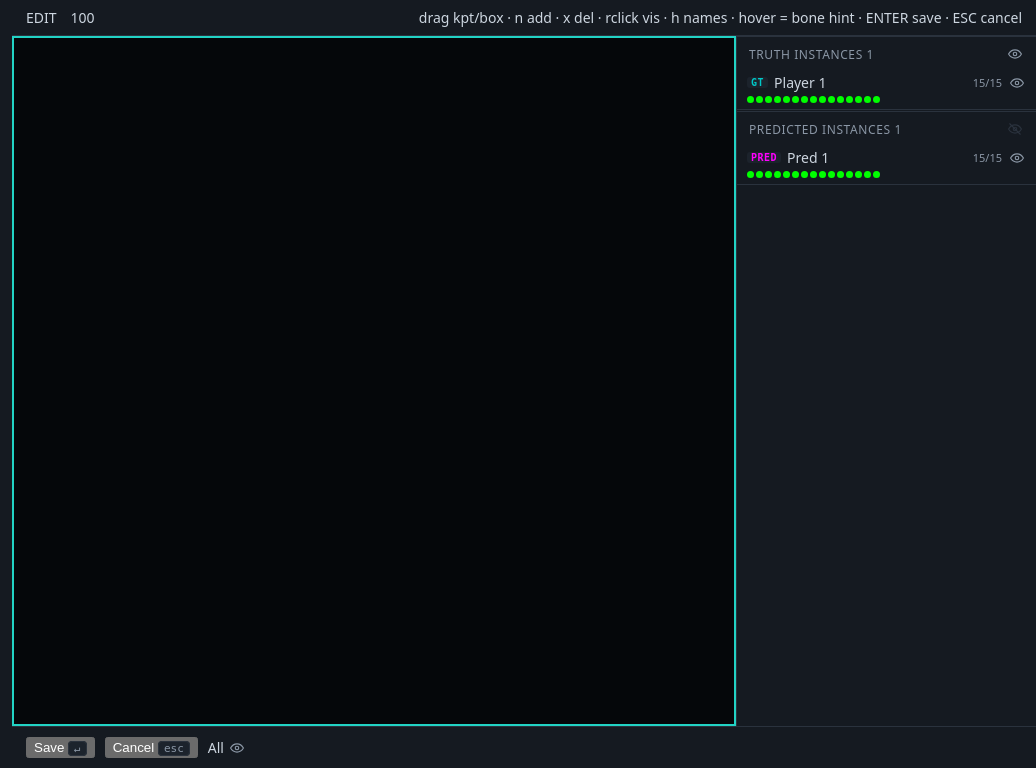
Test: PoseEditor › toggling Predicted group eye flips it to visible
This screenshot has width=1036, height=768.
Click the button named "Predicted — show" at (1015, 129), box x1=1006 y1=120 x2=1024 y2=138
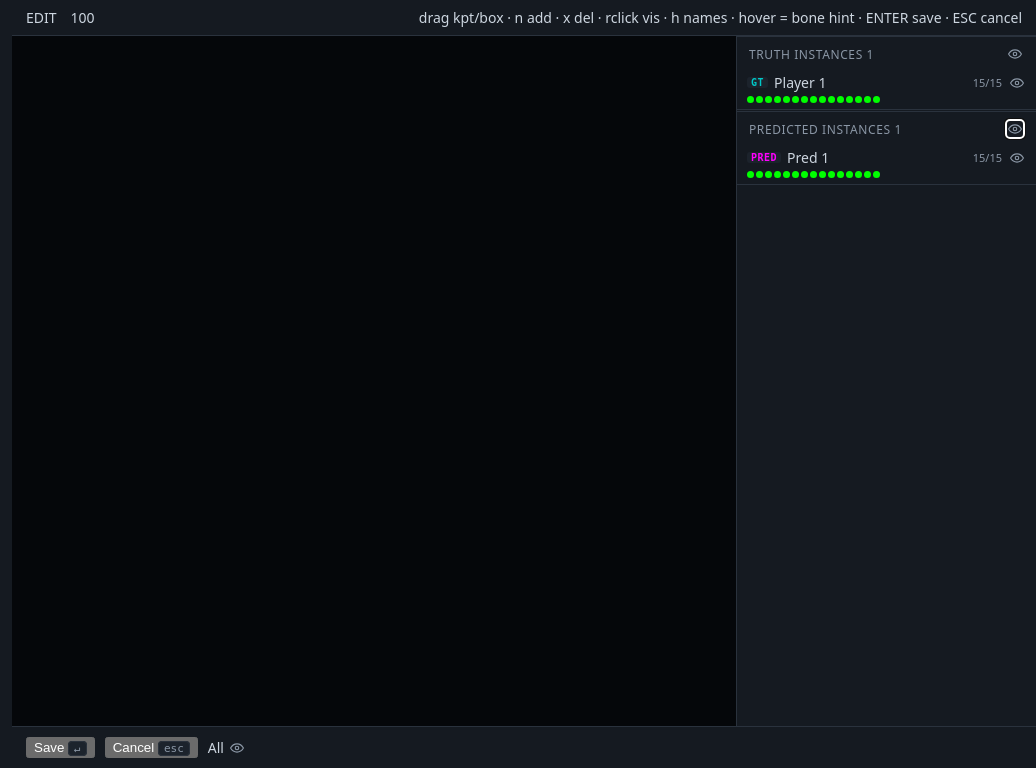
expect the button named "Predicted — hide" is shown: met, box x1=1006 y1=120 x2=1024 y2=138
